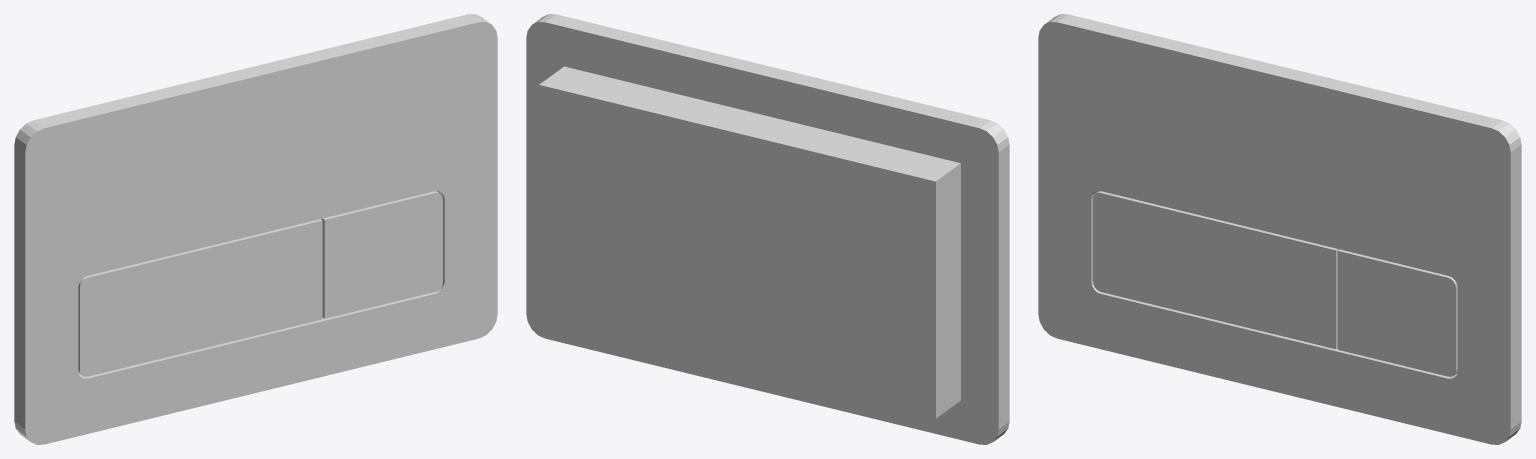
File: AEC_49633.glb
3 views of the same model, side by side, from view 1: azimuth 30°, elevation 25°; view 2: azimuth 150°, elevation 25°; view 3: azimuth 330°, elevation 25° (orthographic).
Visible parts, largest first — view 1: 0; view 2: 0; view 3: 0.
Boxes of the visible parts, x1=… form: 0: x1=14, y1=14, x2=497, y2=444; 0: x1=526, y1=14, x2=1009, y2=444; 0: x1=1038, y1=14, x2=1521, y2=444.
Bounding box in the file's own units: 0.25 × 0.16 × 0.033.
Materials: 1 (1 with a texture image).
